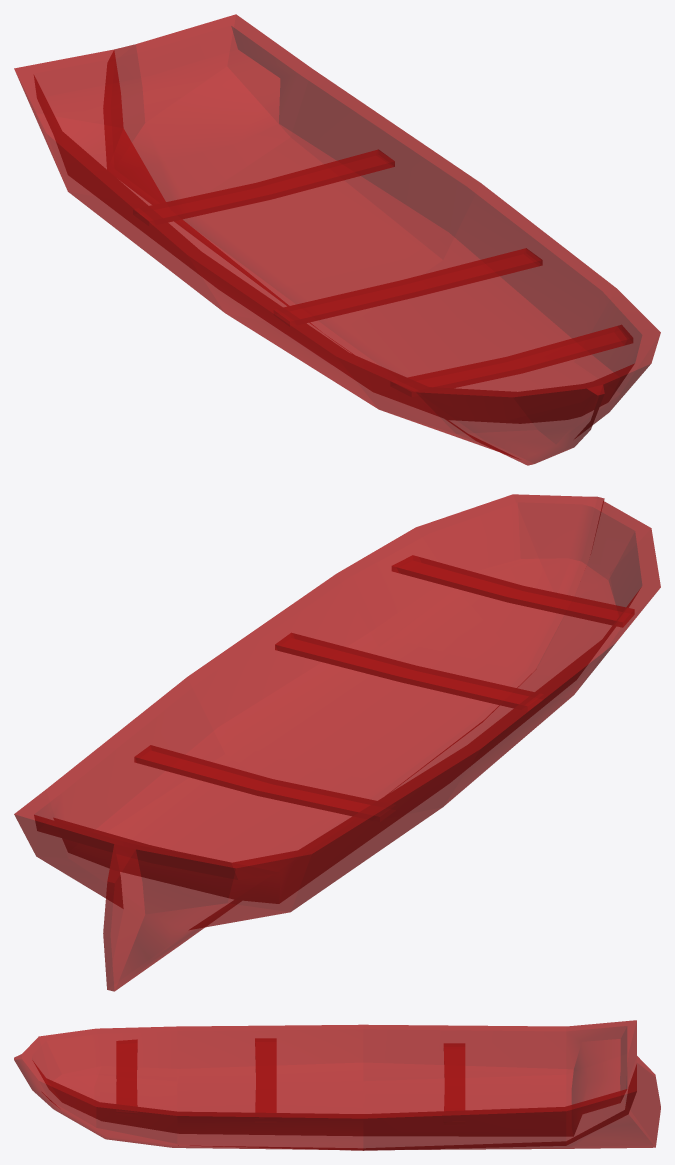
The model's file is SM_Veh_Boat_Small_01_Hull_Pirate_Collision.fbx.
3 views of the same model, one above another, from view 1: azimuth 30°, elevation 25°; view 2: azimuth 150°, elevation 25°; view 3: azimuth 270°, elevation 25° (orthographic). The views are drawn at different scales.
Visible parts, largest first — view 1: SM_Veh_Boat_Small_01_Hull_Pirate_Collision; view 2: SM_Veh_Boat_Small_01_Hull_Pirate_Collision; view 3: SM_Veh_Boat_Small_01_Hull_Pirate_Collision.
Boxes of the visible parts, <box> form: SM_Veh_Boat_Small_01_Hull_Pirate_Collision: <box>14,14,660,465</box>; SM_Veh_Boat_Small_01_Hull_Pirate_Collision: <box>14,494,660,991</box>; SM_Veh_Boat_Small_01_Hull_Pirate_Collision: <box>14,1020,660,1150</box>.
Size of the model in its own units: 289 by 134 by 841.
